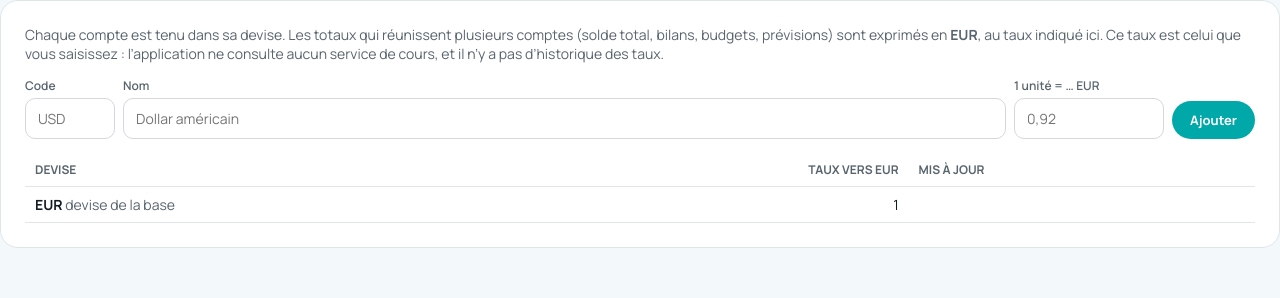
Scenario: Préférences → Devises › affiche l’erreur d’une devise invalide
Type "EUR" into the field labelled "Code" at (70, 118), box [25, 98, 115, 139]
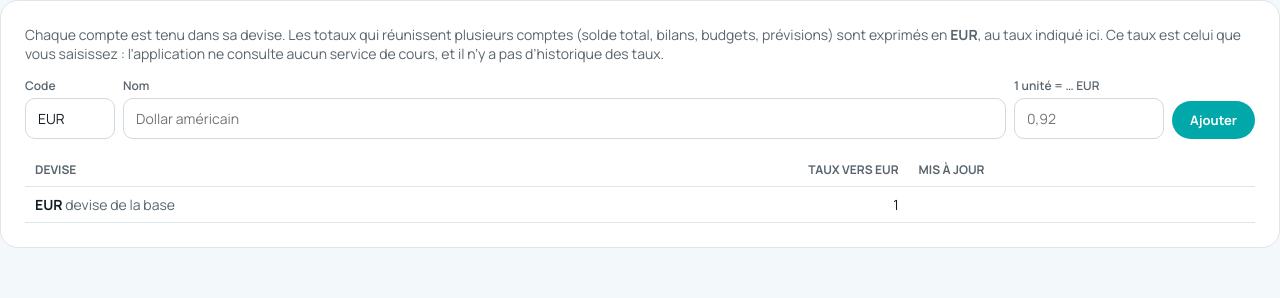
Type "Euro" into the field labelled "Nom" at (565, 118), box [123, 98, 1006, 139]
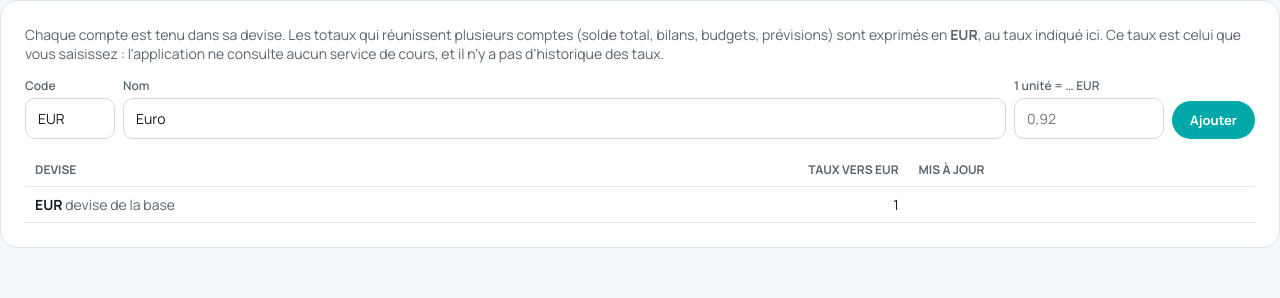
Type "1" into the field labelled "1 unité = … EUR" at (1089, 118), box [1014, 98, 1164, 139]
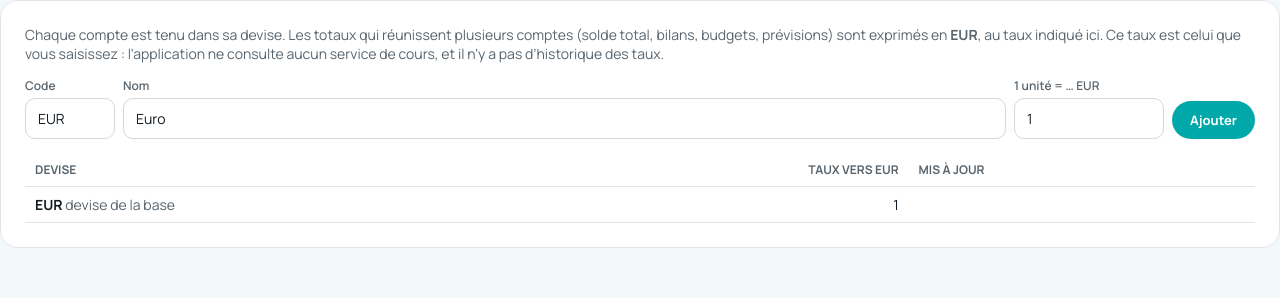
Click the button "Ajouter" at (1214, 120), box [1172, 101, 1255, 139]
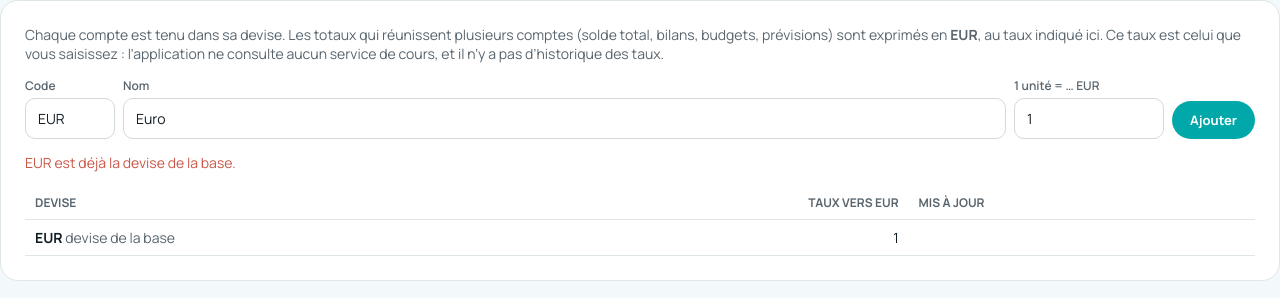
Check: the message shows "déjà la devise de la base", box [25, 153, 236, 172]
